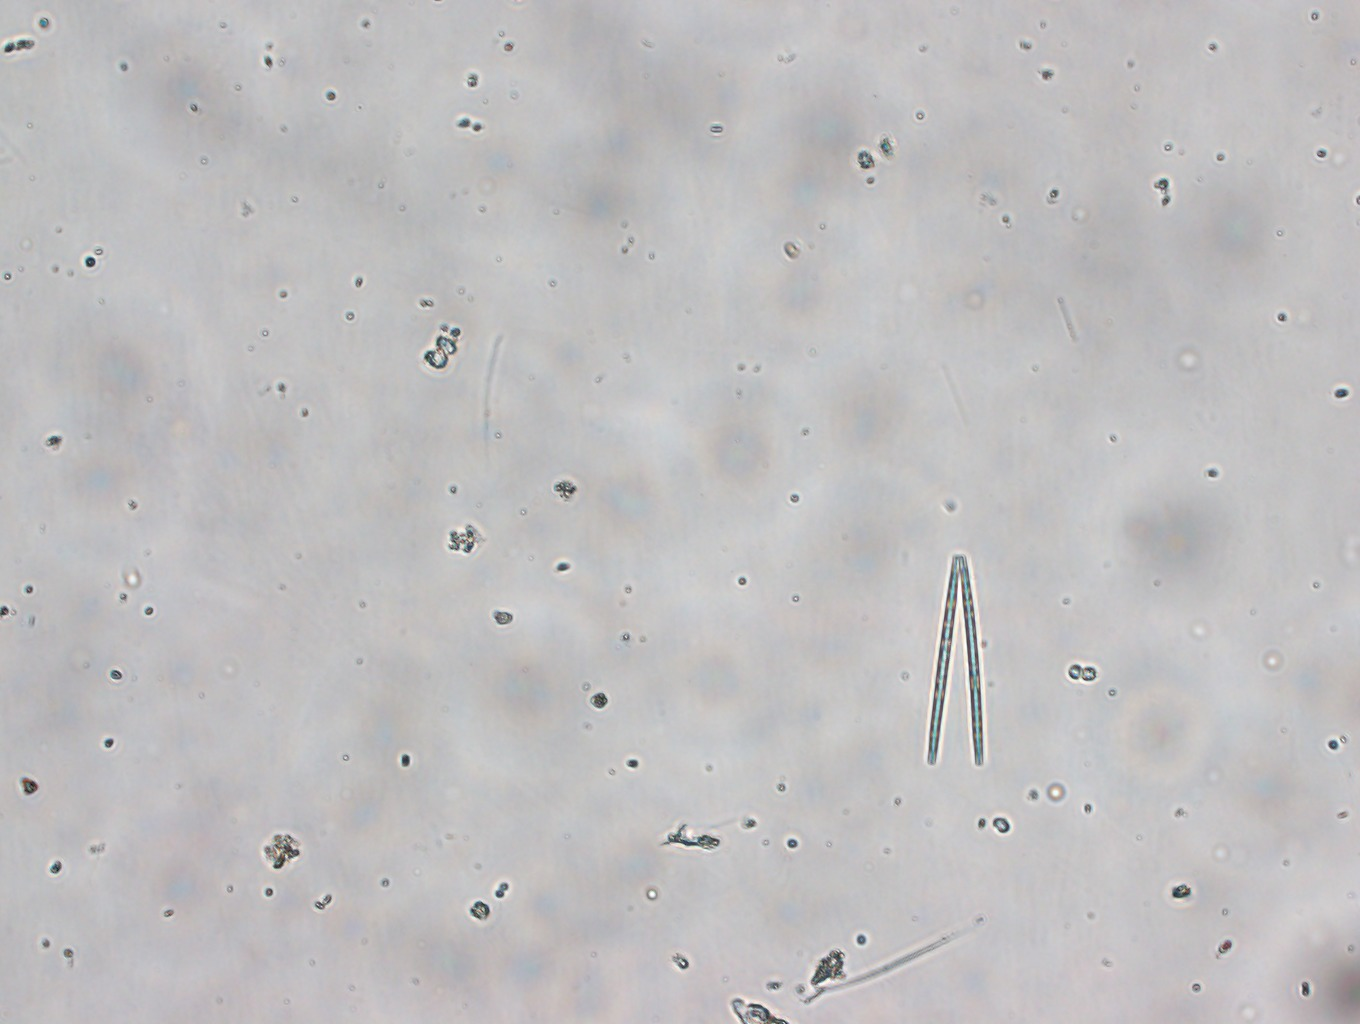thalassionema frauenfeldii: (915, 545, 996, 784)
